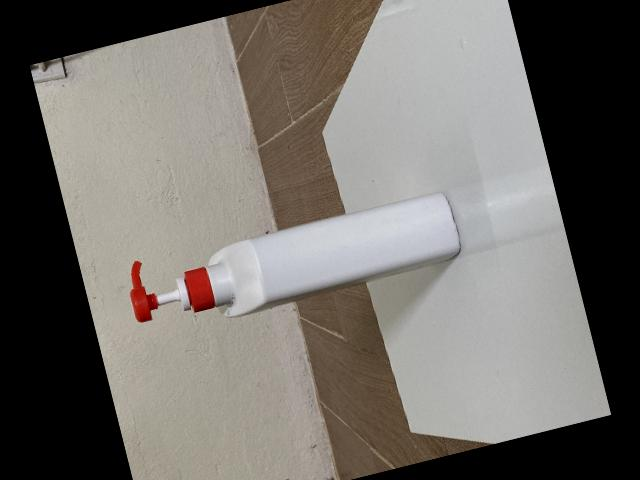life-buoy: (129, 190, 461, 322)
